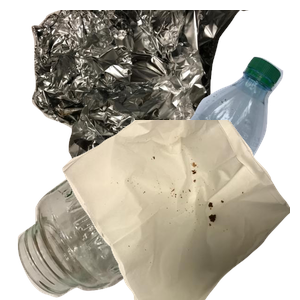glass: (15, 126, 229, 300)
metal: (29, 10, 269, 190)
plastic: (142, 54, 300, 234)
trash: (60, 120, 300, 300)
